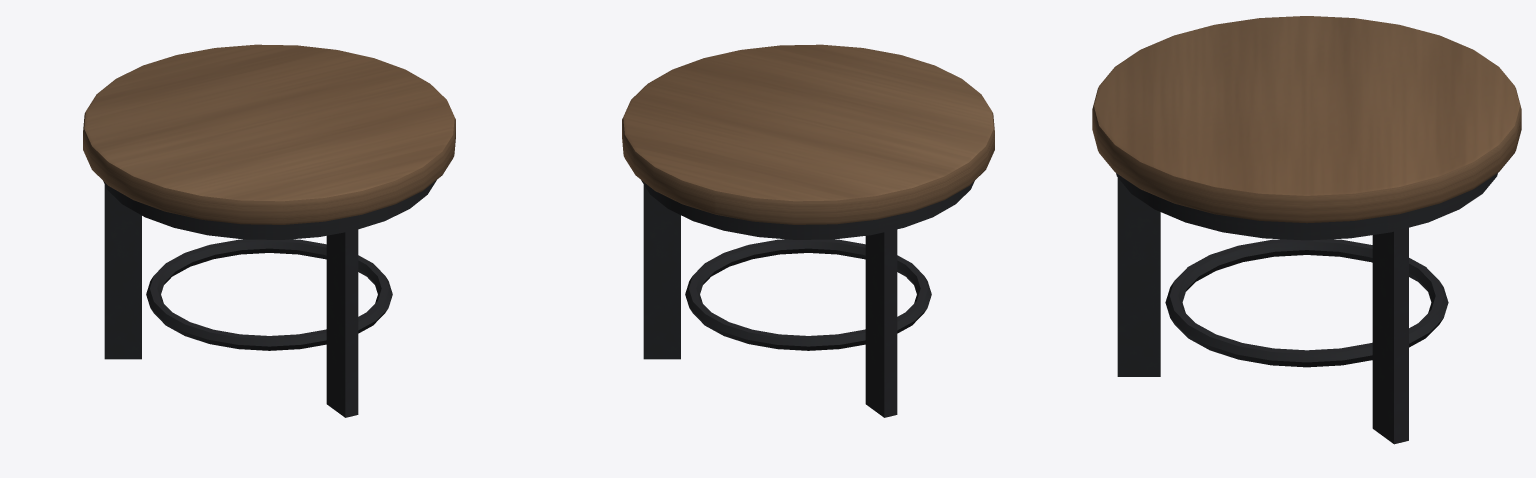
The model's file is lounge_side_table.glb.
The picture shows the model from 3 angles, left to right: view 1: azimuth 30°, elevation 25°; view 2: azimuth 150°, elevation 25°; view 3: azimuth 270°, elevation 25°; orthographic projection. The views are drawn at different scales.
Parts seen in each view (by area): view 1: Top, Support_Ring, Leg_02, Leg_03, Band; view 2: Top, Support_Ring, Leg_01, Leg_02, Band; view 3: Top, Support_Ring, Leg_03, Leg_01, Band.
Boxes of the visible parts, box(x1,y1,x2,y2) form: Top: box(83, 44, 455, 224); Support_Ring: box(146, 239, 392, 350); Leg_02: box(104, 185, 141, 359); Leg_03: box(326, 229, 358, 417); Band: box(103, 180, 436, 239); Top: box(622, 44, 994, 224); Support_Ring: box(685, 239, 931, 350); Leg_01: box(643, 185, 680, 359); Leg_02: box(865, 229, 897, 417); Band: box(641, 180, 974, 239); Top: box(1092, 16, 1521, 223); Support_Ring: box(1165, 239, 1448, 367); Leg_03: box(1117, 178, 1160, 376); Leg_01: box(1372, 227, 1408, 444); Band: box(1116, 173, 1497, 240).
Size of the model in its own units: 0.55 by 0.38 by 0.55.
Materials: 3 (2 with a texture image).
